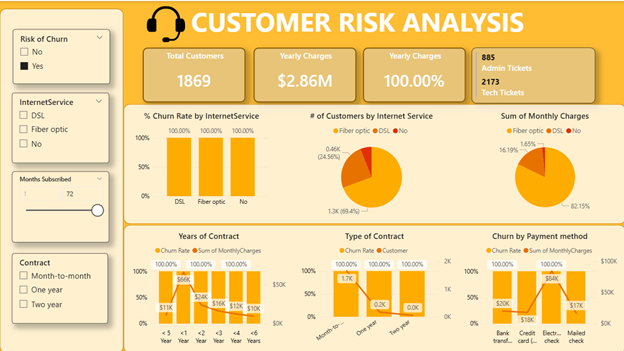

The dashboard page shown, as its layout file describes it:
{"tool":"powerbi","page":{"name":"Customer Risk Analysis Dashboard","canvas":[1280,720],"ordinal":1},"visuals":[{"type":"card","title":"Total Customers","fields":{"Values":["CountNonNull(01 Churn-Dataset.customerID)"]},"box":[293.7,95.3,210,112.1],"z":0},{"type":"card","title":"Yearly Charges","fields":{"Values":["Sum(01 Churn-Dataset.TotalCharges)"]},"box":[521.1,95.3,210,112.1],"z":1000},{"type":"card","title":"Yearly Charges","fields":{"Values":["01 Churn-Dataset.% Churn Rate"]},"box":[743.7,95.3,210,112.1],"z":2000},{"type":"multiRowCard","fields":{"Values":["Sum(01 Churn-Dataset.numAdminTickets)","Sum(01 Churn-Dataset.numTechTickets)"]},"box":[966.3,95.3,252.6,113.7],"z":3000},{"type":"shape","box":[1.6,15.8,252.6,704.2],"z":4000},{"type":"slicer","fields":{"Values":["01 Churn-Dataset.Churn"]},"box":[28.4,58.4,198.9,112.1],"z":5000},{"type":"slicer","fields":{"Values":["01 Churn-Dataset.InternetService"]},"box":[26.8,187.9,198.9,143.7],"z":6000},{"type":"slicer","fields":{"Values":["01 Churn-Dataset.tenure"]},"box":[26.8,349,198.9,145.3],"z":7000},{"type":"slicer","fields":{"Values":["01 Churn-Dataset.Contract"]},"box":[26.8,516.3,195.8,143.7],"z":8000},{"type":"shape","box":[254.2,457.9,1026.3,262.1],"z":9000},{"type":"lineStackedColumnComboChart","title":"Years of Contract","fields":{"Y":["01 Churn-Dataset.% Churn Rate"],"Y2":["Sum(01 Churn-Dataset.MonthlyCharges)"],"Category":["01 Churn-Dataset.Loyalty"]},"box":[266.8,469,323.7,241.6],"z":10000},{"type":"lineStackedColumnComboChart","title":"Type of Contract","fields":{"Y":["01 Churn-Dataset.% Churn Rate"],"Y2":["CountNonNull(01 Churn-Dataset.customerID)"],"Category":["01 Churn-Dataset.Contract"]},"box":[606.3,469,322.1,241.6],"z":11000},{"type":"lineStackedColumnComboChart","title":"Churn by Payment method","fields":{"Y":["01 Churn-Dataset.% Churn Rate"],"Y2":["Sum(01 Churn-Dataset.MonthlyCharges)"],"Category":["01 Churn-Dataset.PaymentMethod"]},"box":[944.2,469,323.7,241.6],"z":12000},{"type":"shape","box":[254.2,211.6,1026.3,244.7],"z":13000},{"type":"columnChart","fields":{"Y":["01 Churn-Dataset.% Churn Rate"],"Category":["01 Churn-Dataset.InternetService"]},"box":[271.6,224.2,284.2,205.3],"z":14000},{"type":"pieChart","title":"# of Customers by Internet Service","fields":{"Y":["CountNonNull(01 Churn-Dataset.customerID)"],"Category":["01 Churn-Dataset.InternetService"]},"box":[600,224.2,322.1,222.6],"z":15000},{"type":"pieChart","title":"Sum of Monthly Charges  ","fields":{"Y":["Sum(01 Churn-Dataset.MonthlyCharges)"],"Category":["01 Churn-Dataset.InternetService"]},"box":[974.2,224.2,284.2,222.6],"z":16000},{"type":"textbox","box":[271.6,0,922.1,82.1],"z":17000},{"type":"image","box":[296.8,0,88.4,94.7],"z":18000}]}

Visuals, with their boxes in screenshot pixels (x1, y1, x2, y2), scaled from the page's 1280x720 canvas onto the 624x351 screenshot:
"Total Customers" card: l=143, t=46, r=246, b=101
"Yearly Charges" card: l=254, t=46, r=356, b=101
"Yearly Charges" card: l=363, t=46, r=465, b=101
multiRowCard - Sum(01 Churn-Dataset.numAdminTickets) x Sum(01 Churn-Dataset.numTechTickets): l=471, t=46, r=594, b=102
shape: l=1, t=8, r=124, b=350
slicer - 01 Churn-Dataset.Churn: l=14, t=28, r=111, b=83
slicer - 01 Churn-Dataset.InternetService: l=13, t=92, r=110, b=162
slicer - 01 Churn-Dataset.tenure: l=13, t=170, r=110, b=241
slicer - 01 Churn-Dataset.Contract: l=13, t=252, r=109, b=322
shape: l=124, t=223, r=623, b=350
"Years of Contract" lineStackedColumnComboChart: l=130, t=229, r=288, b=346
"Type of Contract" lineStackedColumnComboChart: l=296, t=229, r=453, b=346
"Churn by Payment method" lineStackedColumnComboChart: l=460, t=229, r=618, b=346
shape: l=124, t=103, r=623, b=222
columnChart - 01 Churn-Dataset.% Churn Rate x 01 Churn-Dataset.InternetService: l=132, t=109, r=271, b=209
"# of Customers by Internet Service" pieChart: l=292, t=109, r=450, b=218
"Sum of Monthly Charges  " pieChart: l=475, t=109, r=613, b=218
textbox: l=132, t=0, r=582, b=40
image: l=145, t=0, r=188, b=46
